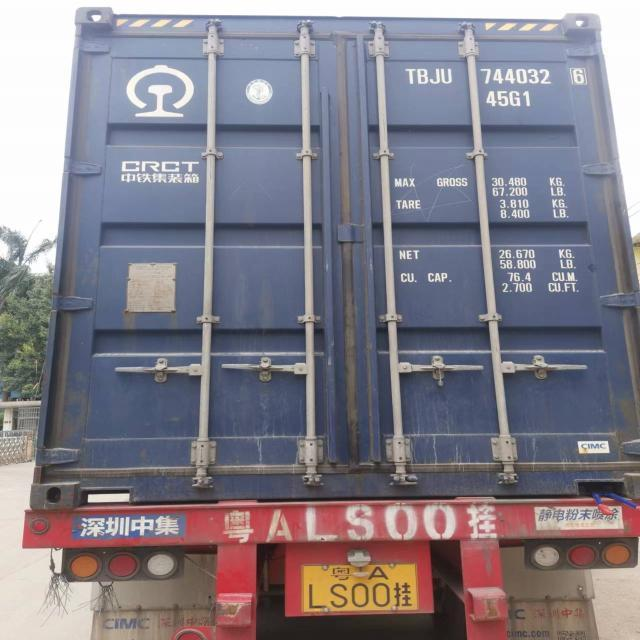ISO: (486, 88, 534, 108)
container_number: (404, 64, 588, 88)
